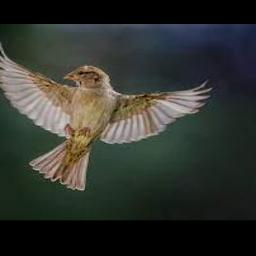Sparrow: (0, 42, 213, 190)
